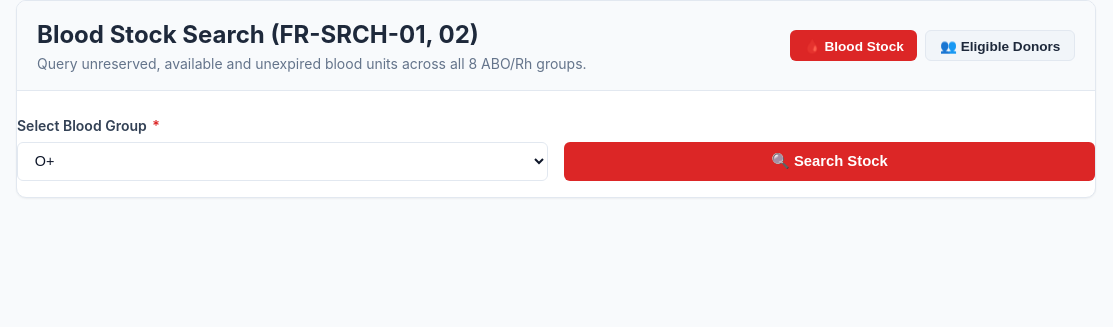
Test: Frontend SearchModule (FR-SRCH-01 to FR-SRCH-06, TC-09, TC-12, TC-26) › displays "No matching results found" when 0 units found (FR-SRCH-05, TC-12)
This screenshot has width=1113, height=327.
Select "AB-" in the dropdown labelled "Select Blood Group *" at (282, 161), box 17,142 -> 548,181
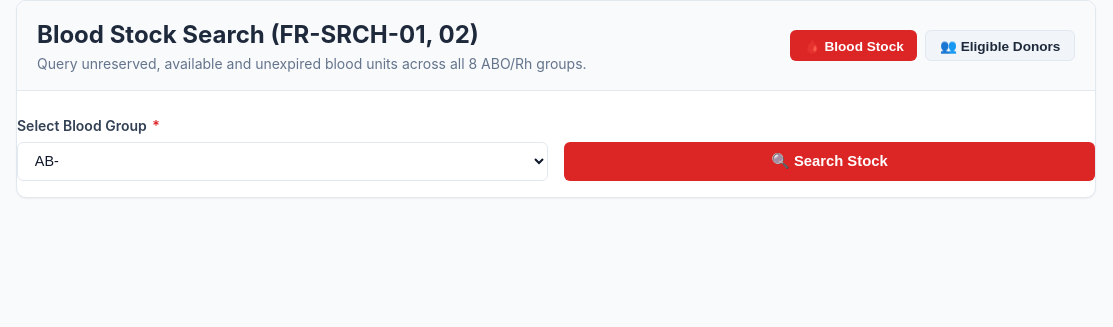
Click the button "🔍 Search Stock" at (830, 161), box 564,142 -> 1095,181
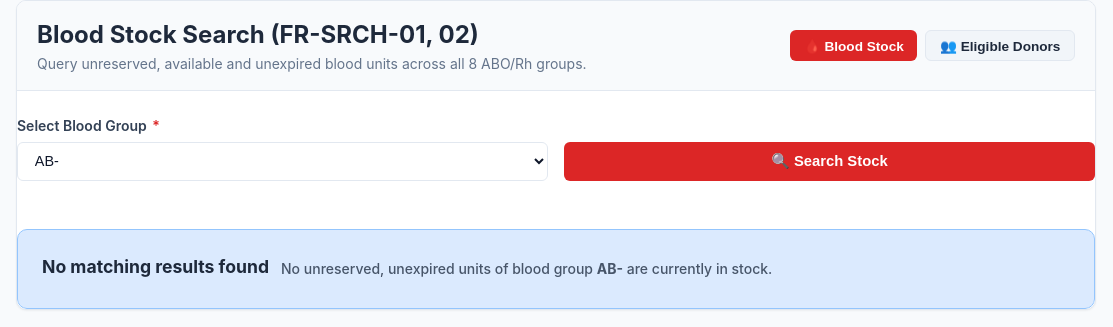
Check: the heading "No matching results found" is shown, box 42,254 -> 269,280
